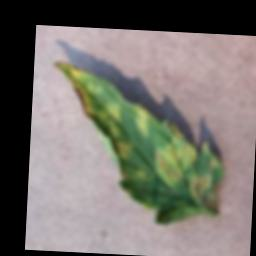Leaf_Mold: (155, 120, 200, 188), (51, 61, 96, 118), (187, 172, 220, 214), (95, 101, 123, 138), (135, 104, 154, 139), (110, 137, 134, 158)
